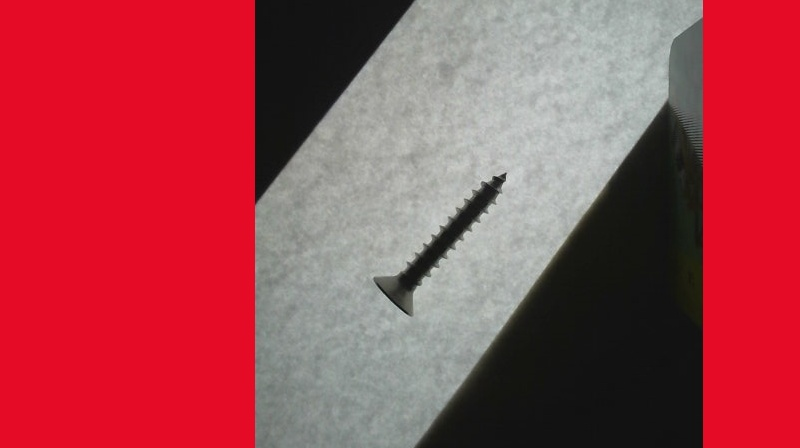S001: (371, 168, 509, 318)
